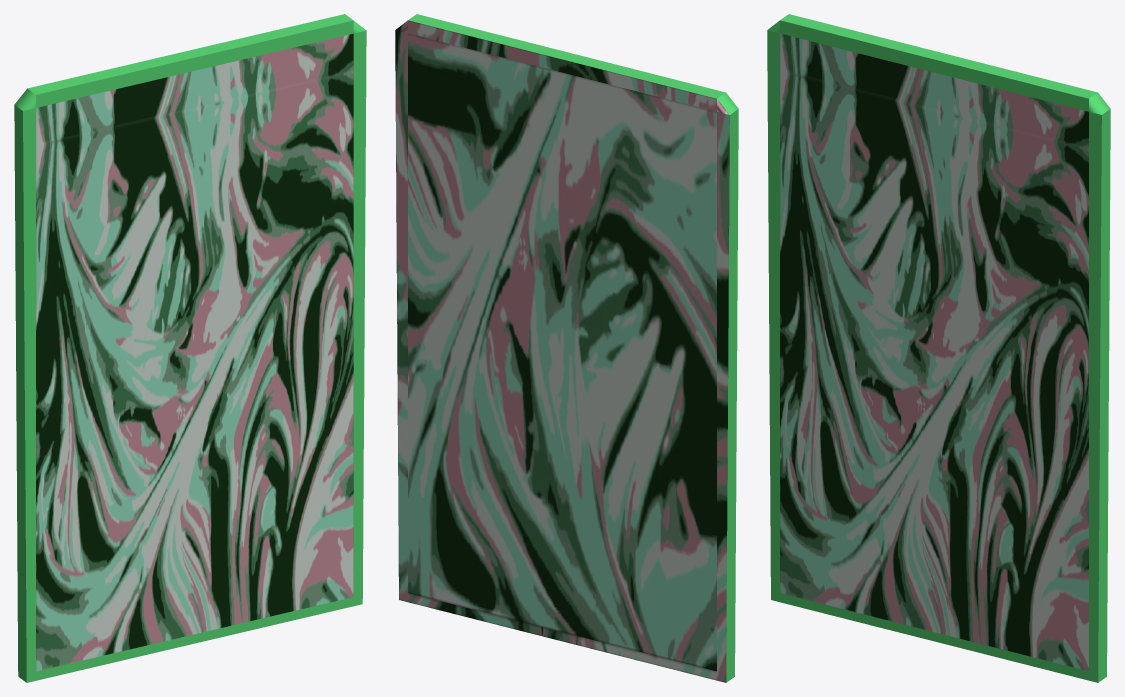
The model's file is y_tablo.obj.
3 views of the same model, side by side, from view 1: azimuth 30°, elevation 25°; view 2: azimuth 150°, elevation 25°; view 3: azimuth 330°, elevation 25° (orthographic).
Visible parts, largest first — view 1: Plane.015_tablo_yeşil, Plane.015_m_yeşil; view 2: Plane.015_tablo_yeşil, Plane.015_m_yeşil; view 3: Plane.015_tablo_yeşil, Plane.015_m_yeşil.
Boxes of the visible parts, x1,y1,x2,y2 form: Plane.015_tablo_yeşil: (36,33,353,671); Plane.015_m_yeşil: (14,14,366,682); Plane.015_tablo_yeşil: (395,20,729,682); Plane.015_m_yeşil: (408,14,738,682); Plane.015_tablo_yeşil: (780,33,1088,671); Plane.015_m_yeşil: (767,14,1110,682).
Bounding box in the file's own units: 10.25 × 16.86 × 0.6305.
